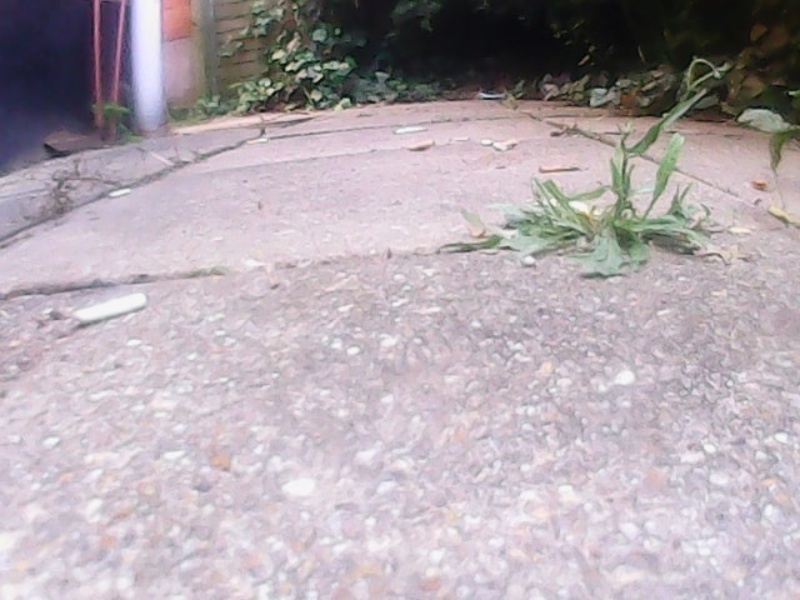cig: (63, 287, 151, 327), (406, 137, 443, 153), (535, 162, 583, 174), (486, 138, 520, 154), (392, 121, 426, 135), (112, 189, 129, 197)
